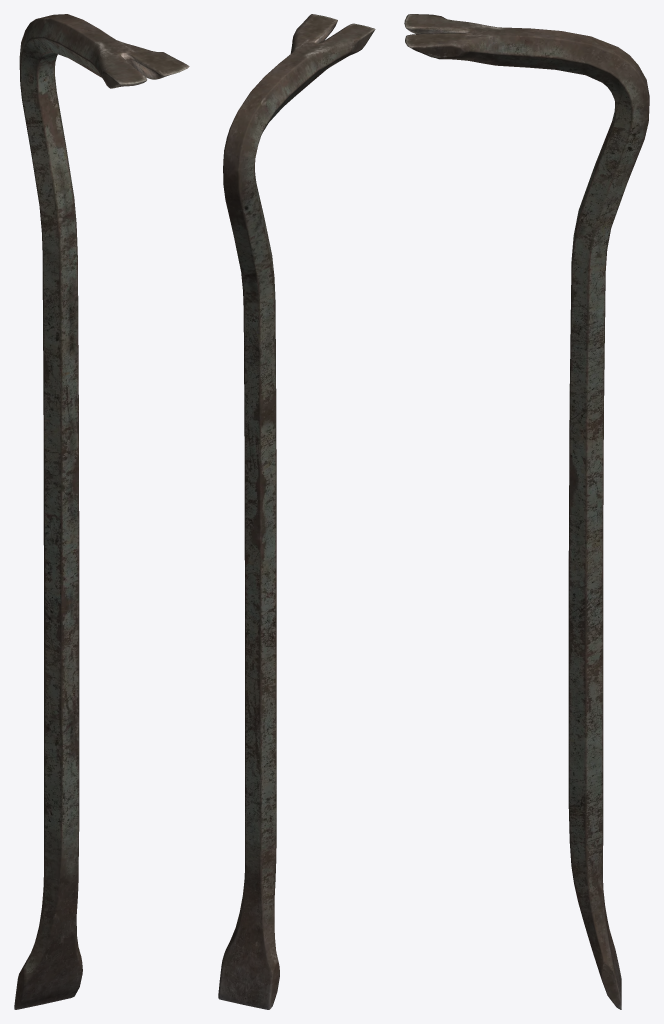
File: crowbar-transformed.glb
3 views of the same model, side by side, from view 1: azimuth 30°, elevation 25°; view 2: azimuth 150°, elevation 25°; view 3: azimuth 270°, elevation 25° (orthographic). The views are drawn at different scales.
Visible parts, largest first — view 1: crowbar_01; view 2: crowbar_01; view 3: crowbar_01.
Boxes of the visible parts, <box> form: crowbar_01: <box>14,14,189,1009</box>; crowbar_01: <box>218,14,375,1009</box>; crowbar_01: <box>404,14,649,1009</box>.
Size of the model in its own units: 0.0404 by 0.5554 by 0.1276.
Materials: 1 (1 with a texture image).
